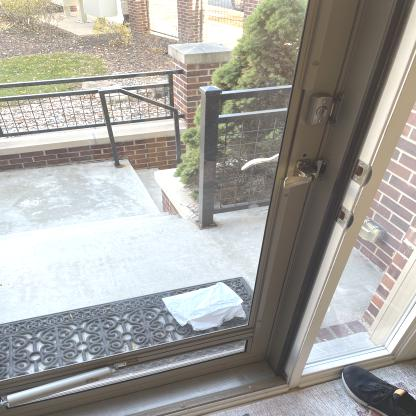plastic_bag: (161, 282, 245, 331)
